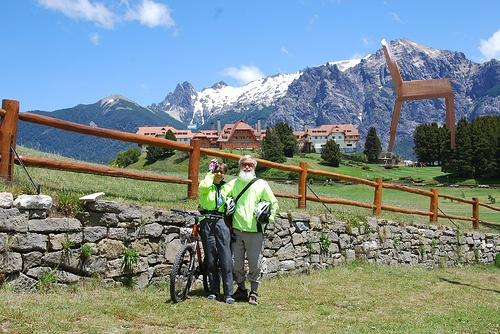tampered: (382, 40, 455, 152)
